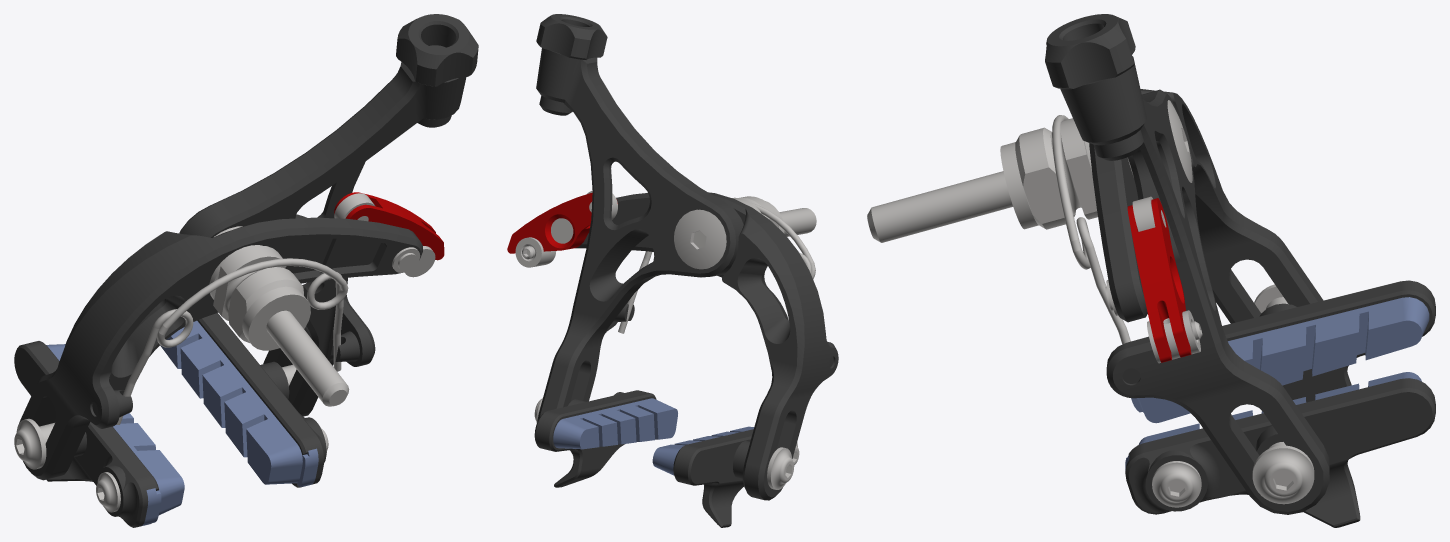
Rendered from frontrimbreak.fbx.
3 views of the same model, side by side, from view 1: azimuth 30°, elevation 25°; view 2: azimuth 150°, elevation 25°; view 3: azimuth 270°, elevation 25° (orthographic). The views are drawn at different scales.
Visible parts, largest first — view 1: Твердое тело2, Твердое тело3, Твердое тело1, Твердое тело20, Твердое тело14, Твердое тело11, Твердое тело19, Твердое тело10, Твердое тело17, Твердое тело4, Твердое тело15, Твердое тело16 (+3 smaller); view 2: Твердое тело3, Твердое тело2, Твердое тело20, Твердое тело14, Твердое тело1, Твердое тело19, Твердое тело11, Твердое тело4, Твердое тело10, Твердое тело17, Твердое тело15, Твердое тело12 (+1 smaller); view 3: Твердое тело3, Твердое тело19, Твердое тело2, Твердое тело1, Твердое тело17, Твердое тело11, Твердое тело14, Твердое тело4, Твердое тело18, Твердое тело10, Твердое тело21, Твердое тело20 (+2 smaller).
Boxes of the visible parts, box(x1,y1,x2,y2) form: Твердое тело2: box(19, 217, 422, 480); Твердое тело3: box(179, 62, 466, 416); Твердое тело1: box(209, 226, 349, 406); Твердое тело20: box(160, 320, 318, 487); Твердое тело14: box(14, 341, 158, 527); Твердое тело11: box(396, 14, 478, 127); Твердое тело19: box(197, 313, 326, 487); Твердое тело10: box(116, 258, 348, 424); Твердое тело17: box(46, 344, 184, 526); Твердое тело4: box(334, 192, 444, 260); Твердое тело15: box(14, 418, 54, 469); Твердое тело16: box(96, 472, 120, 512); Твердое тело3: box(536, 48, 743, 421); Твердое тело2: box(575, 192, 838, 500); Твердое тело20: box(553, 398, 677, 449); Твердое тело14: box(673, 429, 797, 527); Твердое тело1: box(674, 196, 816, 269); Твердое тело19: box(534, 390, 656, 487); Твердое тело11: box(536, 14, 607, 115); Твердое тело4: box(507, 192, 617, 253); Твердое тело10: box(618, 202, 815, 333); Твердое тело17: box(652, 426, 754, 475); Твердое тело15: box(767, 447, 794, 489); Твердое тело12: box(515, 237, 556, 267); Твердое тело3: box(1060, 56, 1329, 514); Твердое тело19: box(1125, 378, 1435, 527); Твердое тело2: box(1089, 89, 1323, 323); Твердое тело1: box(867, 100, 1192, 242); Твердое тело17: box(1131, 297, 1429, 423); Твердое тело11: box(1045, 14, 1143, 160); Твердое тело14: box(1222, 280, 1435, 402); Твердое тело4: box(1127, 198, 1191, 362); Твердое тело18: box(1252, 442, 1314, 504); Твердое тело10: box(1052, 115, 1130, 344); Твердое тело21: box(1152, 461, 1201, 507); Твердое тело20: box(1125, 372, 1421, 470).
Bounding box in the file's own units: 84.48 × 99.84 × 91.81.
